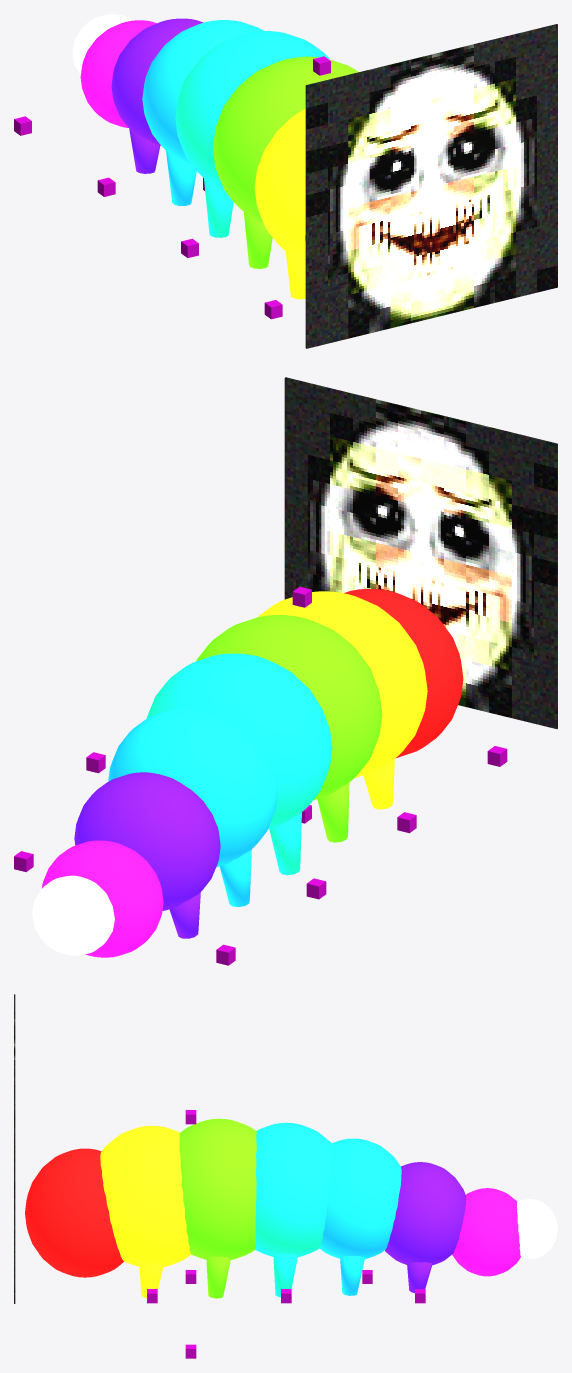
File: 08_verme_ohio_nextbot.glb
3 views of the same model, one above another, from view 1: azimuth 30°, elevation 25°; view 2: azimuth 150°, elevation 25°; view 3: azimuth 270°, elevation 25° (orthographic). The views are drawn at different scales.
Visible parts, largest first — view 1: VermeOhio__Faccia_Meme, VermeOhio__Segmento_RGB_2, VermeOhio__Segmento_RGB_3, VermeOhio__Segmento_RGB_4, VermeOhio__Segmento_RGB_1, VermeOhio__Segmento_RGB_5, VermeOhio__Segmento_RGB_6, VermeOhio__Coda_Lucciola; view 2: VermeOhio__Faccia_Meme, VermeOhio__Segmento_RGB_3, VermeOhio__Segmento_RGB_4, VermeOhio__Segmento_RGB_2, VermeOhio__Segmento_RGB_5, VermeOhio__Segmento_RGB_1, VermeOhio__Segmento_RGB_6, VermeOhio__Segmento_RGB_0, VermeOhio__Coda_Lucciola; view 3: VermeOhio__Segmento_RGB_1, VermeOhio__Segmento_RGB_2, VermeOhio__Segmento_RGB_3, VermeOhio__Segmento_RGB_0, VermeOhio__Segmento_RGB_4, VermeOhio__Segmento_RGB_5, VermeOhio__Segmento_RGB_6, VermeOhio__Coda_Lucciola, VermeOhio__Faccia_Meme.
Boxes of the visible parts, x1,y1,x2,y2 form: VermeOhio__Faccia_Meme: (305, 24, 557, 348); VermeOhio__Segmento_RGB_2: (213, 56, 358, 268); VermeOhio__Segmento_RGB_3: (175, 31, 329, 237); VermeOhio__Segmento_RGB_4: (142, 20, 263, 205); VermeOhio__Segmento_RGB_1: (254, 108, 305, 299); VermeOhio__Segmento_RGB_5: (111, 18, 203, 173); VermeOhio__Segmento_RGB_6: (80, 20, 156, 127); VermeOhio__Coda_Lucciola: (72, 14, 132, 74); VermeOhio__Faccia_Meme: (284, 377, 557, 728); VermeOhio__Segmento_RGB_3: (146, 653, 332, 875); VermeOhio__Segmento_RGB_4: (108, 707, 277, 906); VermeOhio__Segmento_RGB_2: (196, 615, 382, 842); VermeOhio__Segmento_RGB_5: (74, 772, 220, 938); VermeOhio__Segmento_RGB_1: (258, 591, 427, 809); VermeOhio__Segmento_RGB_6: (42, 840, 163, 957); VermeOhio__Segmento_RGB_0: (344, 589, 463, 758); VermeOhio__Coda_Lucciola: (32, 875, 114, 955); VermeOhio__Segmento_RGB_1: (100, 1125, 190, 1297); VermeOhio__Segmento_RGB_2: (179, 1118, 256, 1298); VermeOhio__Segmento_RGB_3: (255, 1122, 332, 1297); VermeOhio__Segmento_RGB_0: (25, 1148, 124, 1277); VermeOhio__Segmento_RGB_4: (319, 1138, 401, 1295); VermeOhio__Segmento_RGB_5: (385, 1162, 466, 1293); VermeOhio__Segmento_RGB_6: (452, 1188, 520, 1276); VermeOhio__Coda_Lucciola: (517, 1199, 557, 1258); VermeOhio__Faccia_Meme: (14, 994, 15, 1303).
Size of the model in its own units: 2.53 by 2.23 by 4.63.
10 materials, 1 textured.
